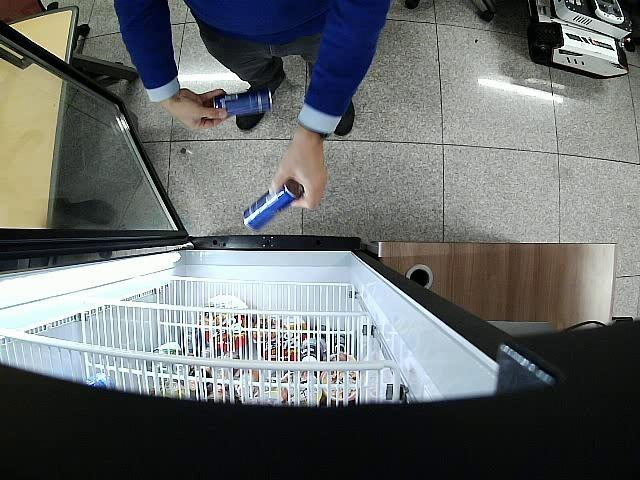16_hot6: (244, 180, 302, 232), (212, 88, 272, 118)
